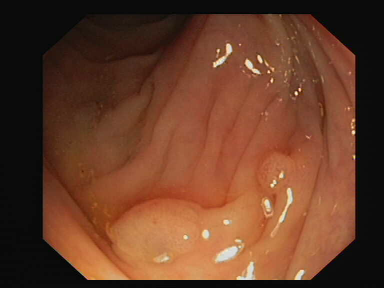polyp: (94, 187, 224, 259), (244, 141, 316, 192)
